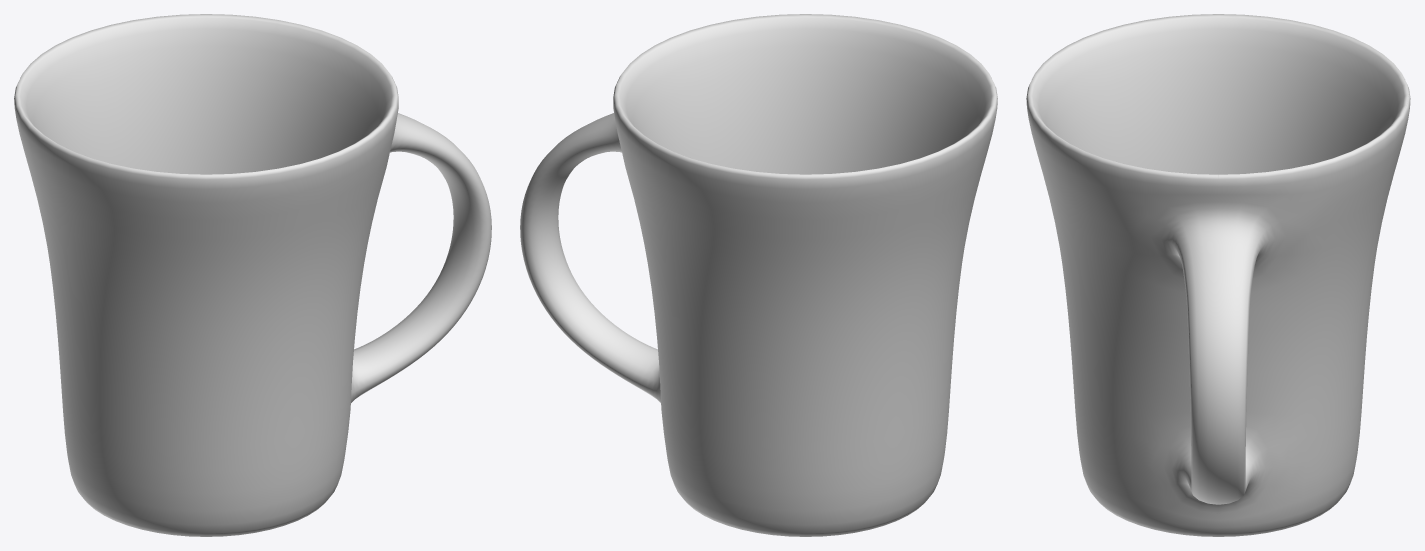
Rendered from cup_of_coffee_cup_gltf.glb.
The picture shows the model from 3 angles, left to right: view 1: azimuth 30°, elevation 25°; view 2: azimuth 150°, elevation 25°; view 3: azimuth 270°, elevation 25°; orthographic projection.
Visible parts, largest first — view 1: Cup; view 2: Cup; view 3: Cup.
Part boxes in pixels (x1,y1,x2,y2): Cup: [14, 14, 491, 536]; Cup: [520, 14, 997, 536]; Cup: [1026, 14, 1410, 536].
Size of the model in its own units: 1.44 by 1.2 by 1.07.
Materials: 1 (1 with a texture image).
